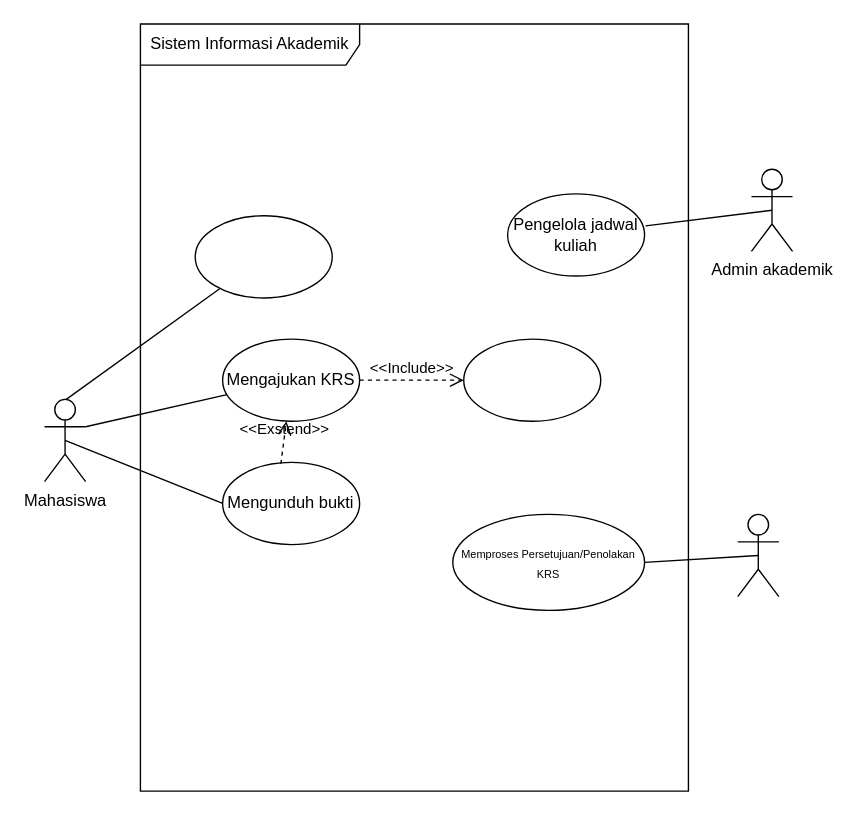
This 856x815 diagram has some shape labels left out. The shapes that lost their labels are listed below. From the top down, each one's centre as x and y in pixels, then its label:
the point at 263,256: Melihat Jadwal Kuliah
the point at 531,379: Validasi KRS
the point at 757,555: Dosen Wali
